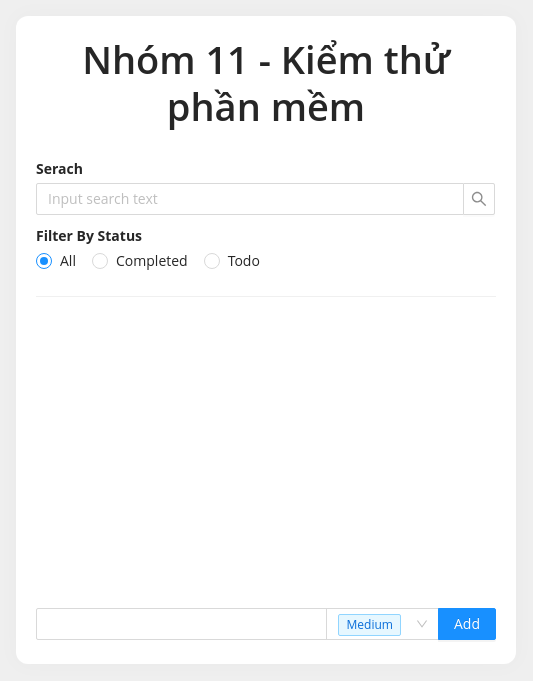
Test: Software Testing › Should add a new todo if data is OK
Type "First Todo" into the field named "name" at {"x": 182, "y": 624}, box [36, 608, 328, 640]
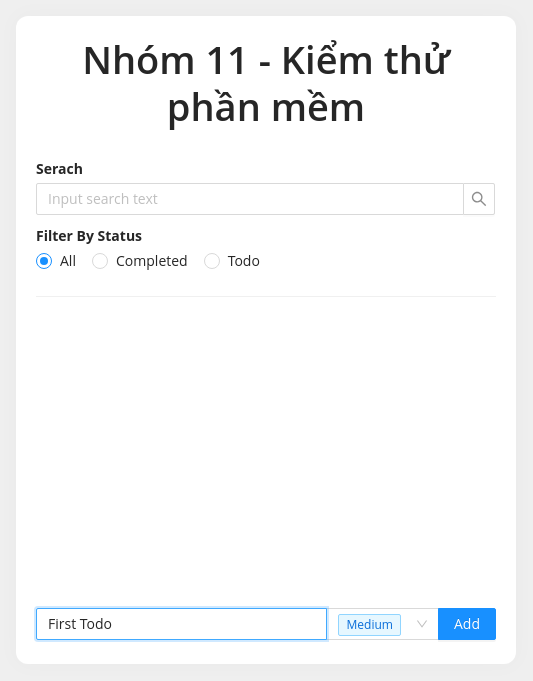
Click the button with id "add_todo" at {"x": 467, "y": 624}, box [438, 608, 496, 640]
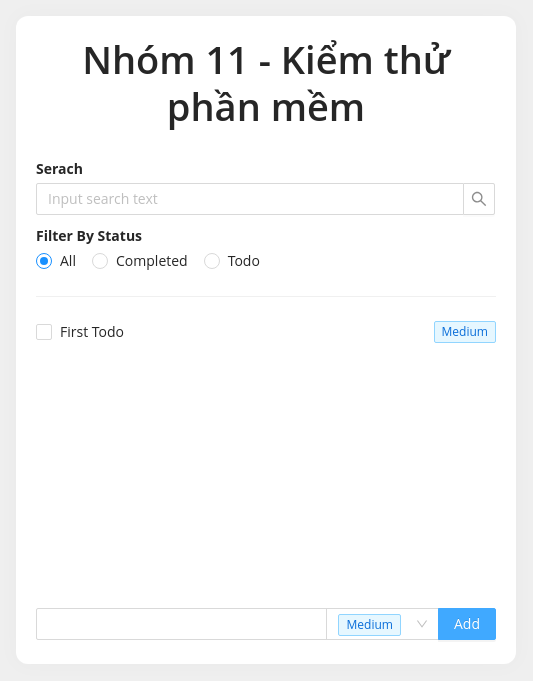
Expected: the text with id "todo_container" reads "First Todo", [60, 322, 124, 341]
